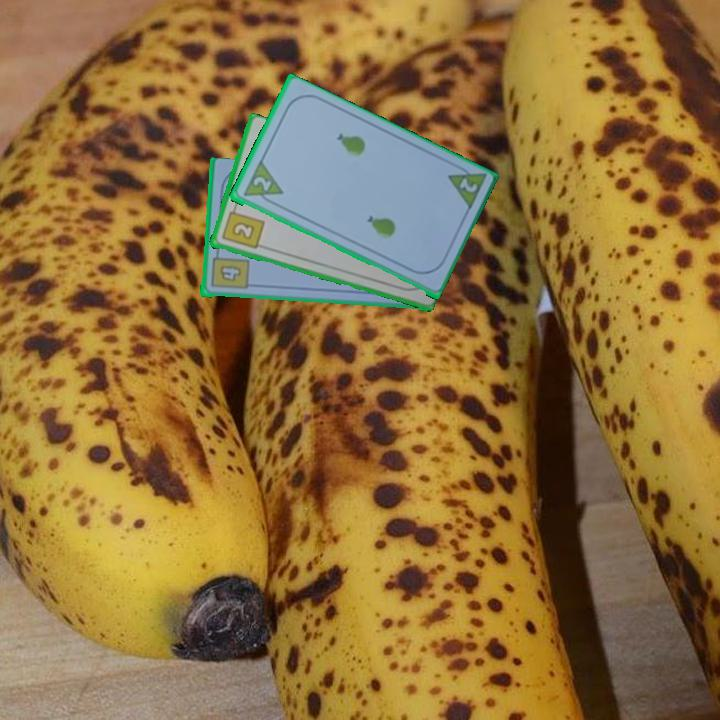2b: (218, 202, 266, 252)
2p: (443, 160, 489, 214), (249, 173, 274, 194)
4b: (207, 248, 251, 293)
